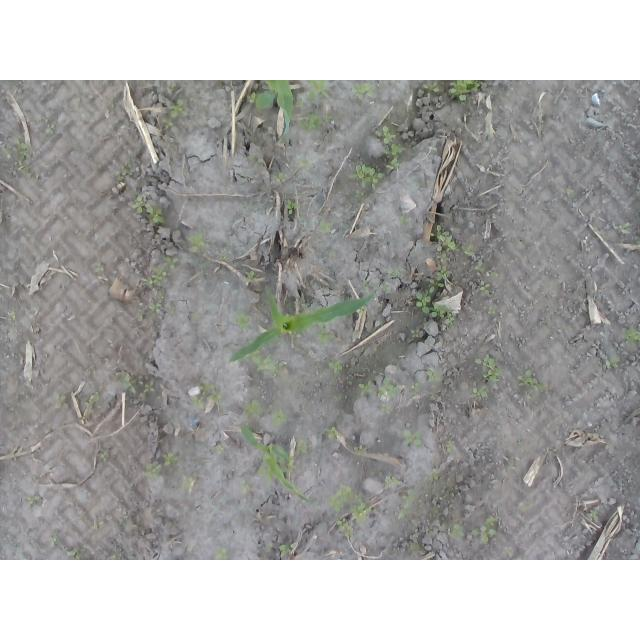Maize: (227, 285, 377, 364), (240, 424, 321, 509), (254, 80, 295, 144)
Weeds: (416, 289, 456, 325), (131, 193, 165, 224), (250, 348, 286, 377), (347, 165, 385, 191), (191, 379, 221, 410), (375, 125, 405, 155), (474, 353, 503, 383), (431, 224, 462, 252), (472, 515, 500, 545), (517, 370, 547, 398), (136, 294, 165, 321), (449, 80, 483, 102), (329, 483, 353, 513), (350, 494, 372, 525), (13, 137, 31, 174), (299, 114, 332, 133), (114, 371, 139, 394), (142, 266, 170, 286), (186, 231, 211, 253), (400, 489, 417, 520), (377, 377, 400, 399), (620, 326, 640, 350), (352, 82, 377, 100), (308, 80, 329, 101), (274, 454, 297, 473), (316, 326, 336, 347), (168, 98, 189, 118), (243, 399, 265, 418), (336, 517, 355, 537), (143, 462, 161, 481), (403, 429, 422, 447), (236, 310, 252, 331), (408, 531, 424, 551), (272, 409, 289, 427), (115, 166, 134, 182), (422, 82, 441, 98), (435, 265, 452, 282), (257, 466, 275, 482), (383, 474, 401, 490), (55, 392, 70, 411), (358, 380, 374, 397), (426, 366, 442, 383), (85, 391, 100, 409), (279, 543, 297, 558), (470, 386, 490, 399), (287, 198, 302, 214), (449, 523, 466, 537), (44, 118, 57, 136), (295, 156, 314, 168), (162, 452, 178, 466), (179, 474, 193, 490), (428, 280, 445, 293), (385, 156, 400, 170), (164, 255, 179, 269), (328, 360, 344, 373), (246, 269, 259, 285), (614, 222, 630, 235), (68, 548, 85, 560), (603, 358, 621, 369), (324, 426, 340, 438), (388, 268, 405, 279), (142, 380, 155, 394), (479, 281, 491, 296), (49, 532, 59, 549), (216, 548, 229, 561), (319, 220, 332, 233), (26, 495, 40, 507), (461, 245, 476, 256), (518, 501, 534, 511), (354, 445, 367, 457), (245, 90, 257, 103), (293, 94, 304, 108), (379, 404, 393, 415), (240, 479, 250, 494), (502, 547, 515, 558), (445, 439, 455, 453), (436, 253, 450, 263), (248, 156, 265, 164), (475, 260, 486, 272), (162, 118, 174, 129), (100, 450, 110, 463), (272, 172, 285, 182), (288, 330, 302, 339), (430, 469, 439, 483), (1, 146, 11, 158), (297, 443, 307, 454), (214, 445, 224, 456), (399, 214, 409, 224), (411, 381, 421, 391), (95, 263, 105, 273), (410, 329, 421, 338), (381, 284, 392, 293), (590, 509, 599, 519), (354, 190, 364, 199), (168, 84, 176, 95), (488, 306, 497, 315), (363, 280, 369, 292), (488, 271, 500, 277), (9, 311, 17, 320), (168, 306, 176, 314), (220, 253, 228, 260), (566, 189, 574, 196), (243, 175, 250, 182), (415, 181, 421, 189), (331, 254, 337, 259)
